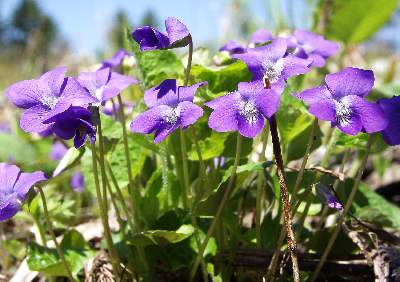violet: (298, 61, 390, 137), (7, 70, 87, 132), (204, 79, 279, 142), (231, 38, 314, 92), (127, 79, 198, 142), (1, 161, 50, 226), (124, 20, 197, 54)
